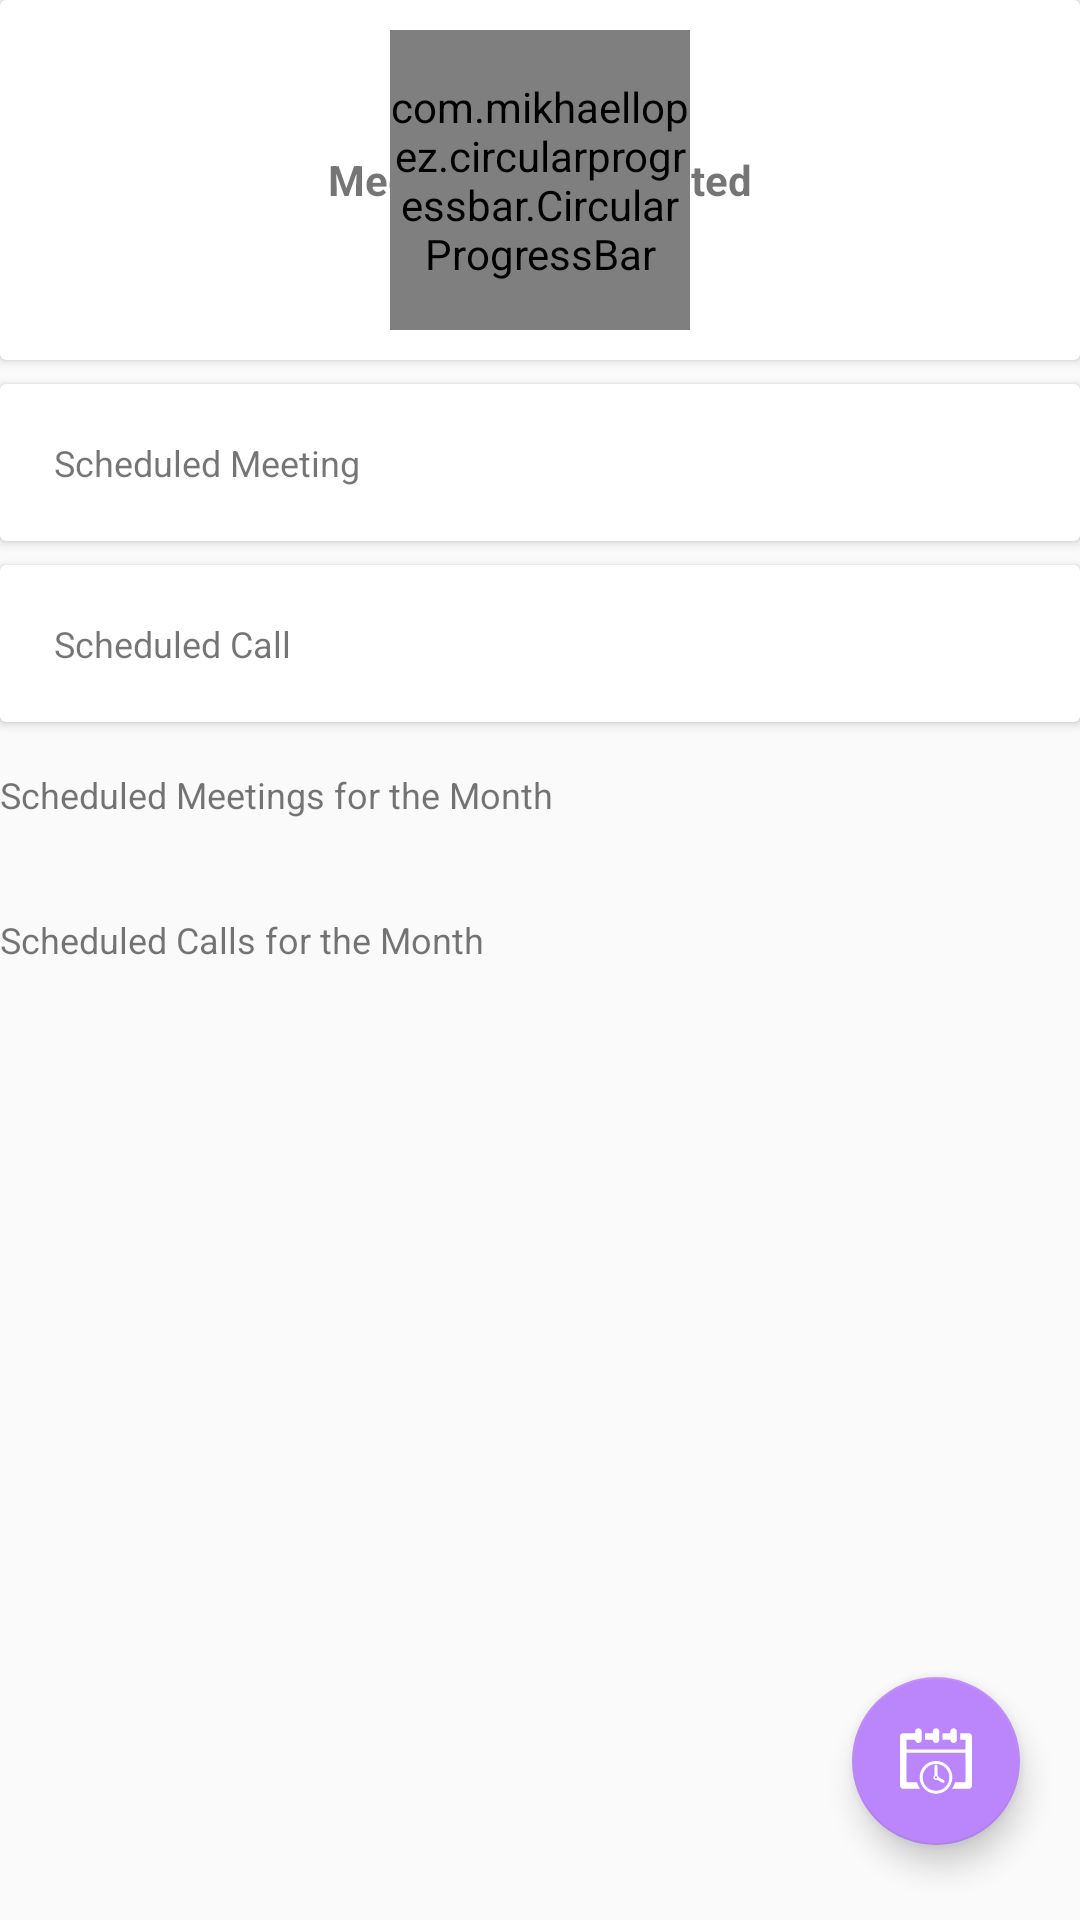

Screen size 1080px×1920px. Icon name, then its box in pixels as (x1, y1, x2, y2):
meeting deadlines: (852, 1677, 1020, 1845)
